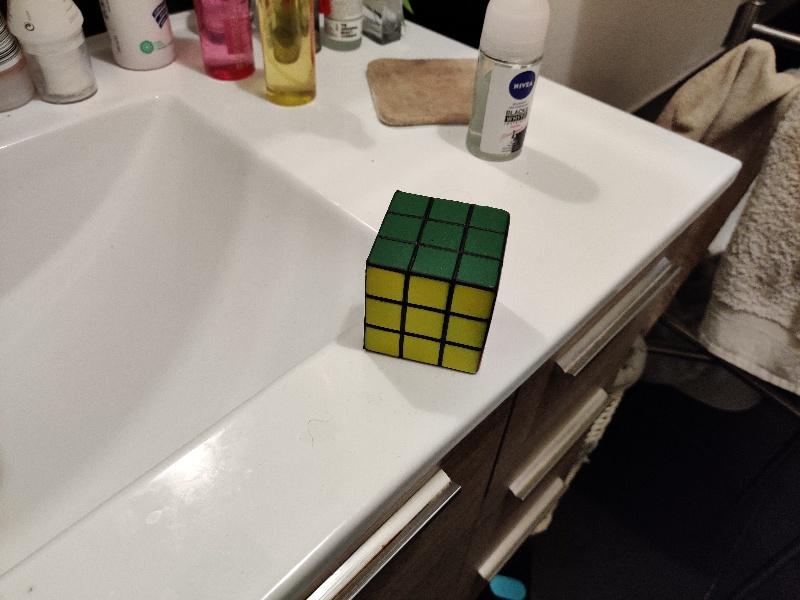rubik: (363, 190, 512, 375)
